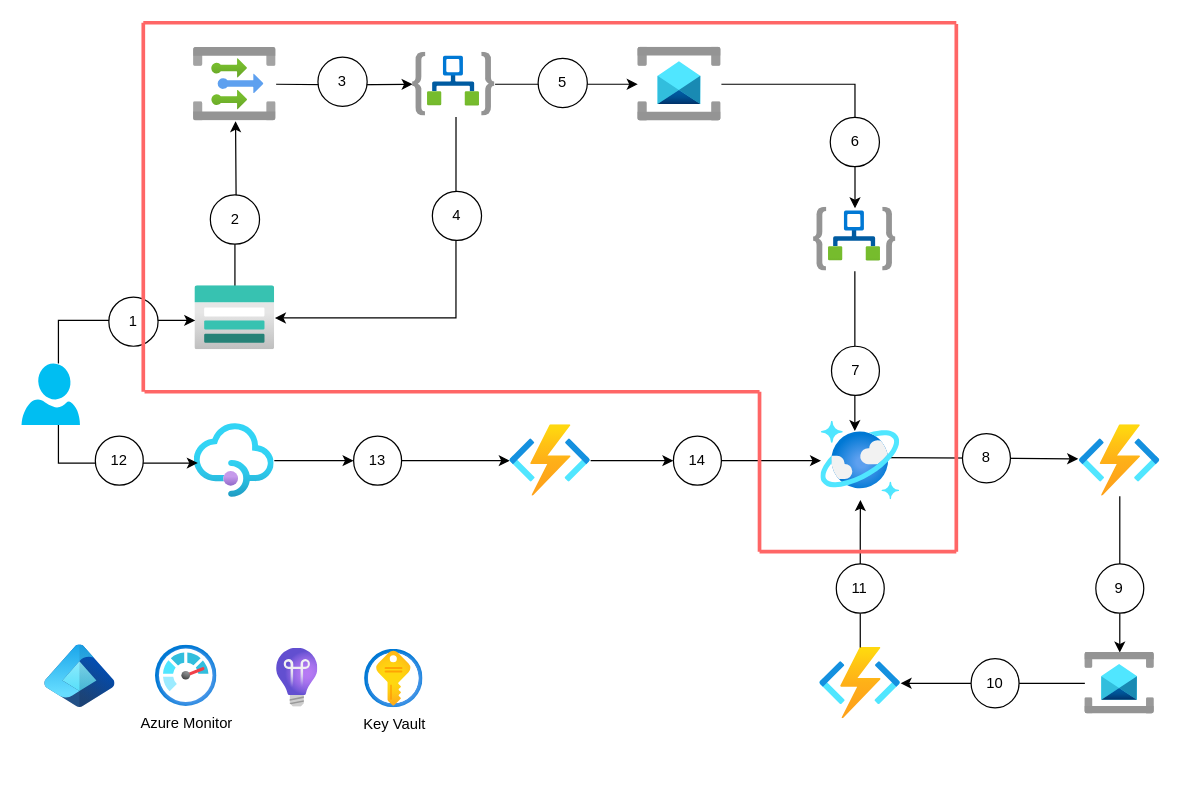
The diagram is 1198 pixels wide and 785 high, and some of its shapes have lost their labels. The centre of each missing label's shape, as x and y in pixels:
API: the point at 234,460
App Insights: the point at 296,677
Entra ID: the point at 79,676
FetchOrders (function app): the point at 549,460
Orders database (CosmosDB): the point at 859,460
orders to process (service bus): the point at 1119,682
ProcessOrders (function app): the point at 859,682
QueueOrders (function app): the point at 1119,460
